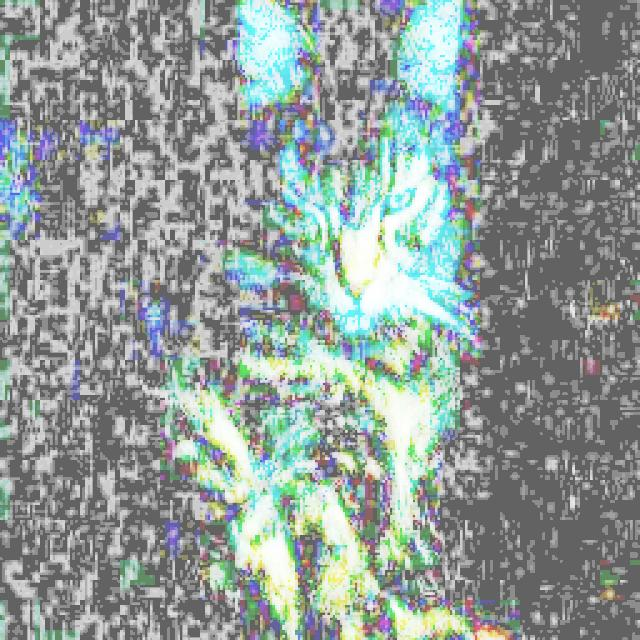cat: (170, 0, 496, 640)
